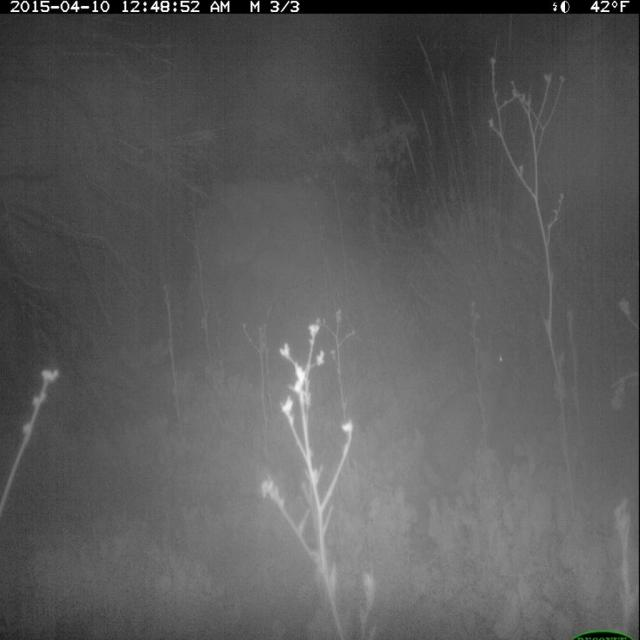rabbit: (418, 309, 518, 500)
